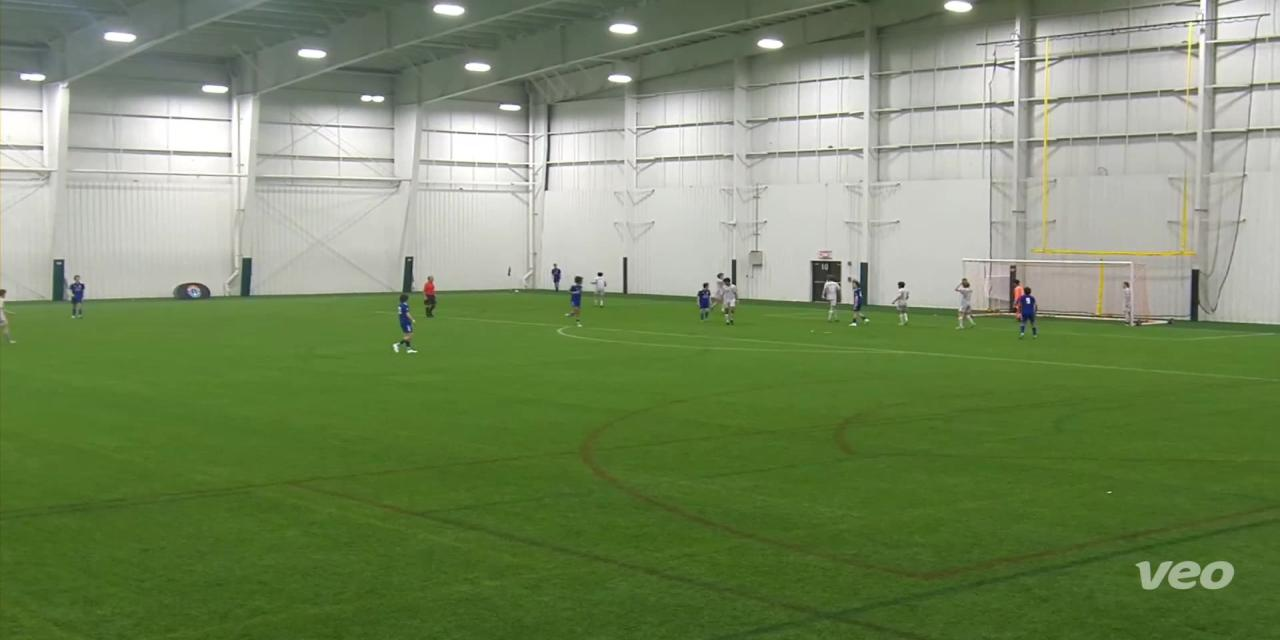goal: (952, 252, 1173, 330)
sports ball: (511, 286, 521, 294)
